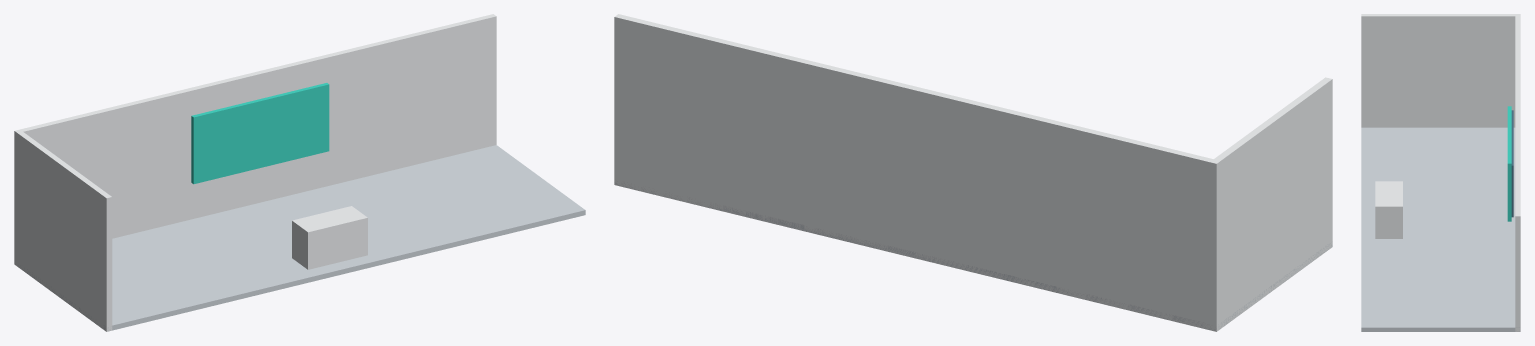
3 renders of one model, left to right at view 1: azimuth 30°, elevation 25°; view 2: azimuth 150°, elevation 25°; view 3: azimuth 270°, elevation 25°, orthographic. The views are drawn at different scales.
Parts seen in each view (by area): view 1: Exhibition Booth Concept; view 2: Exhibition Booth Concept; view 3: Exhibition Booth Concept.
Part boxes in pixels (<box>): Exhibition Booth Concept: <box>14,14,585,331</box>; Exhibition Booth Concept: <box>614,14,1332,331</box>; Exhibition Booth Concept: <box>1361,14,1520,331</box>.
Bounding box in the file's own units: 12 × 3.2 × 4.
